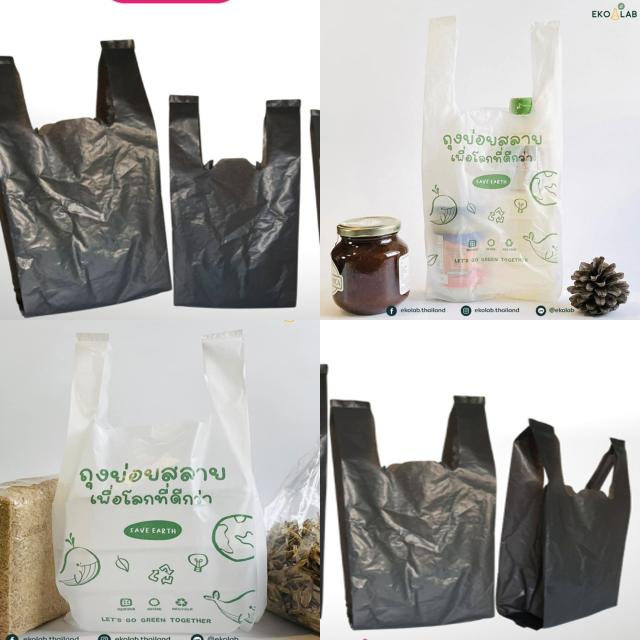Single-layer Plastic: (52, 331, 266, 634), (0, 40, 171, 318), (422, 16, 562, 302), (330, 396, 496, 629), (496, 419, 630, 630), (169, 95, 301, 308)
